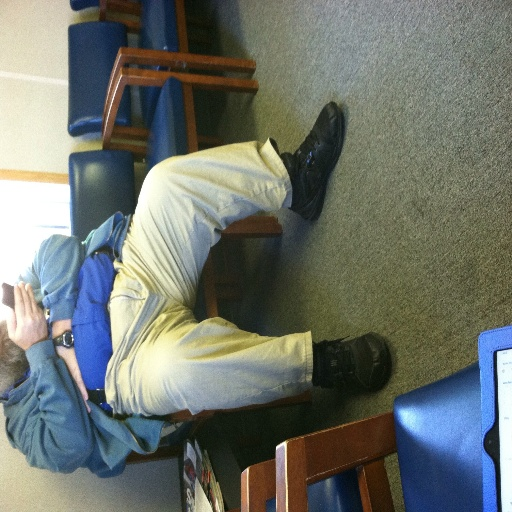hand: (1, 271, 55, 353), (54, 344, 92, 415)
